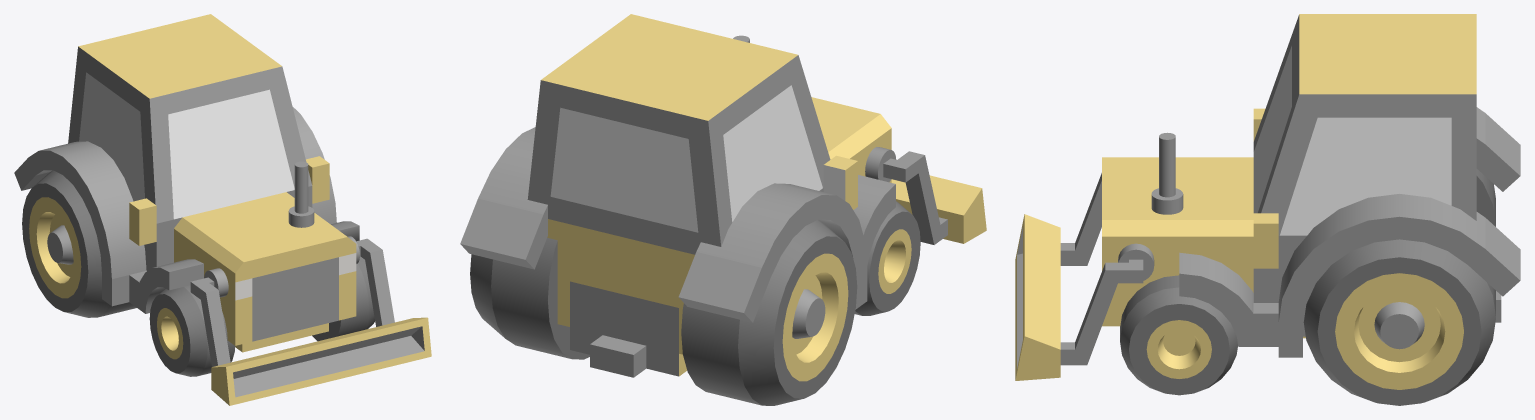
The model's file is tractor-shovel.gltf.
3 views of the same model, side by side, from view 1: azimuth 30°, elevation 25°; view 2: azimuth 150°, elevation 25°; view 3: azimuth 270°, elevation 25° (orthographic). The views are drawn at different scales.
Parts seen in each view (by area): view 1: tractorShovel; view 2: tractorShovel; view 3: tractorShovel.
Boxes of the visible parts, x1,y1,x2,y2 form: tractorShovel: (14,14,431,405); tractorShovel: (460,14,986,405); tractorShovel: (1015,14,1520,405).
Size of the model in its own units: 1.17 by 1.1 by 1.72.
